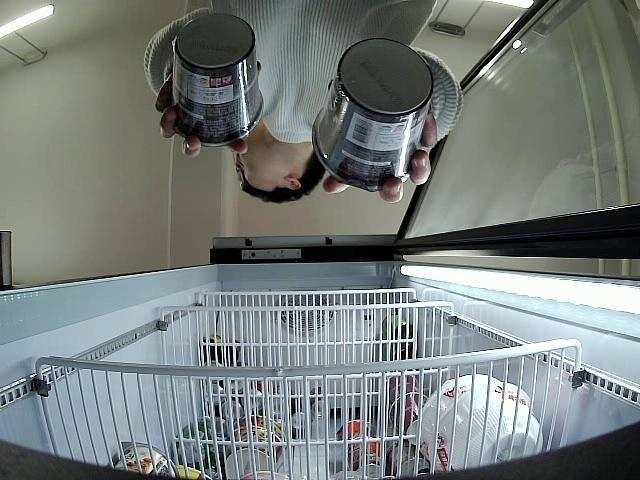08_buldak_S: (312, 38, 436, 190), (172, 13, 266, 146)
